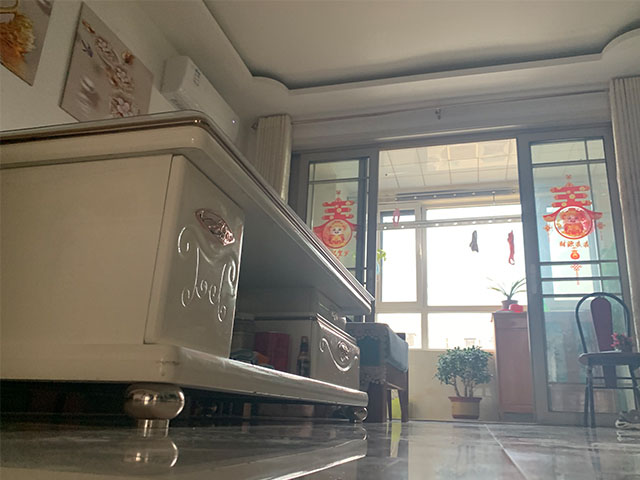cabinet: (488, 310, 537, 419)
stool: (574, 292, 640, 429)
table: (1, 110, 377, 428)
